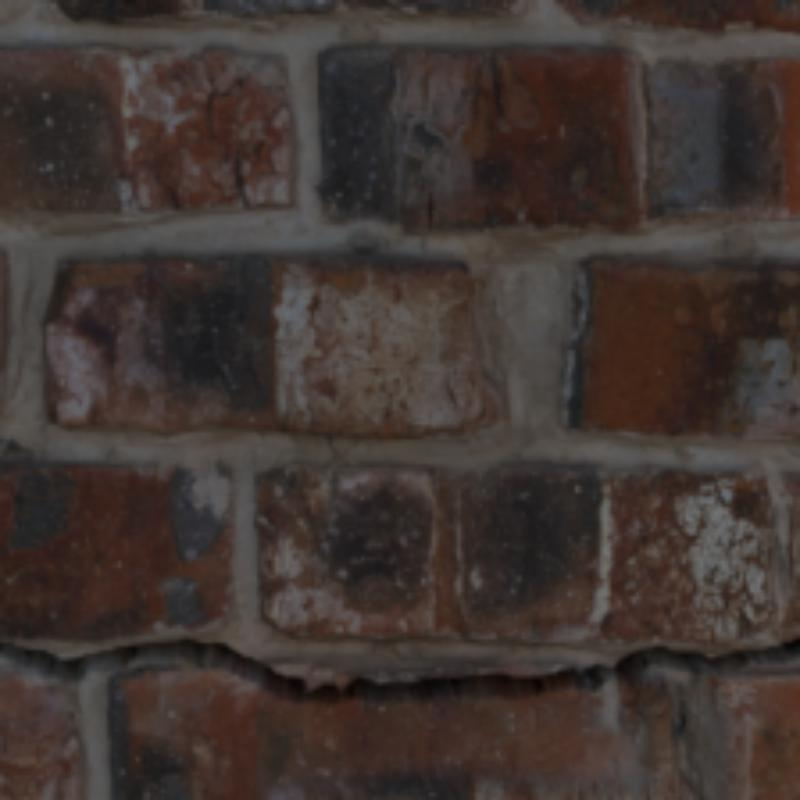pothole: (0, 636, 796, 704)
